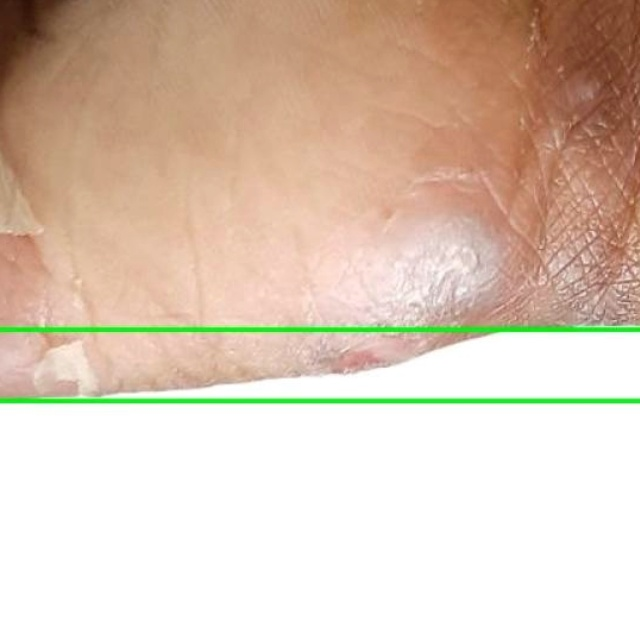Scabies: (0, 0, 639, 401), (0, 328, 639, 639)
